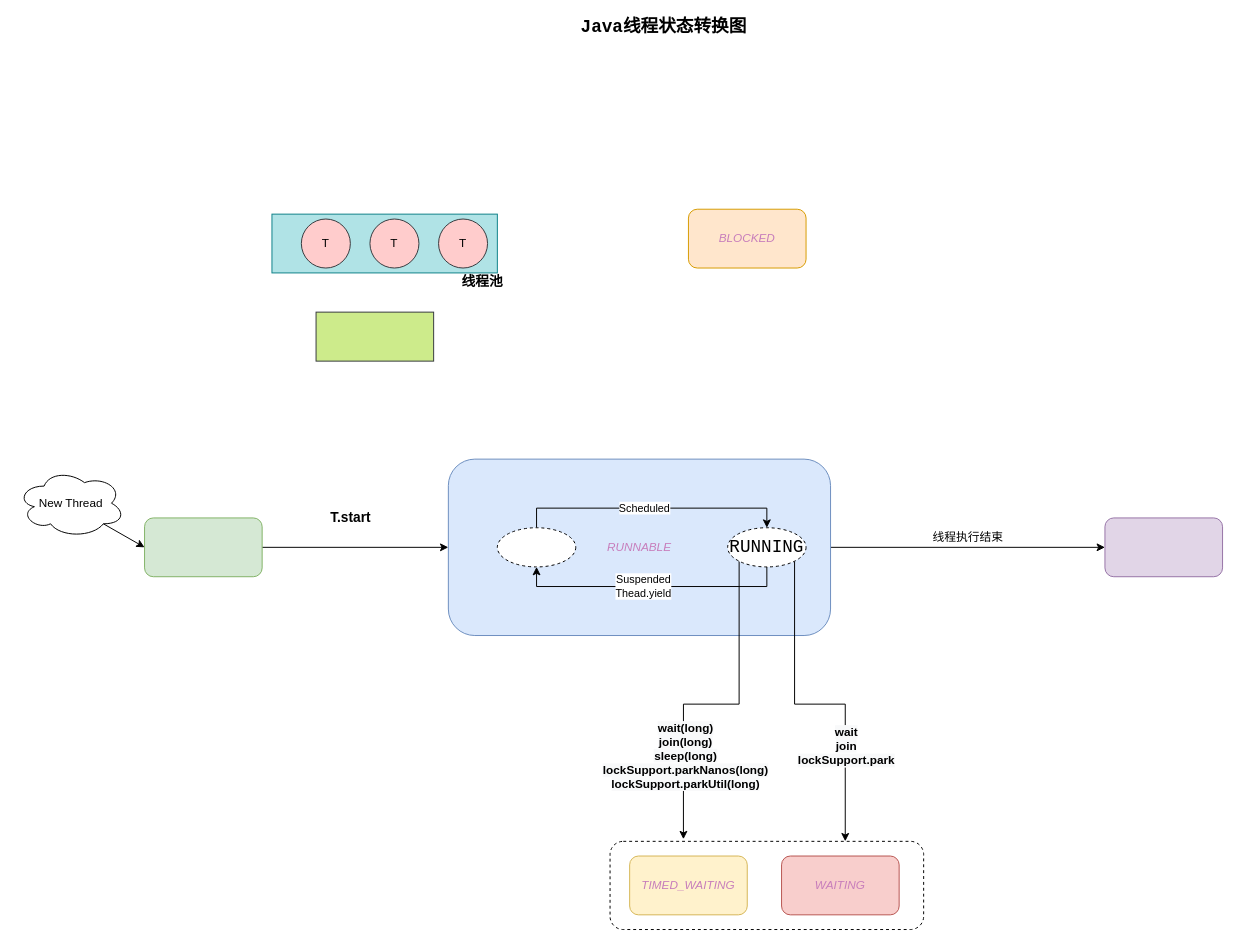
The diagram is 1240 pixels wide and 947 high, and some of its shapes have lost their labels. Here are the shapes that lost their labels. From the top down, the centre of each, then its label:
pixel 374 336: OS线程调度器
pixel 203 547: NEW
pixel 536 547: Ready
pixel 1163 547: TEARMINATED
